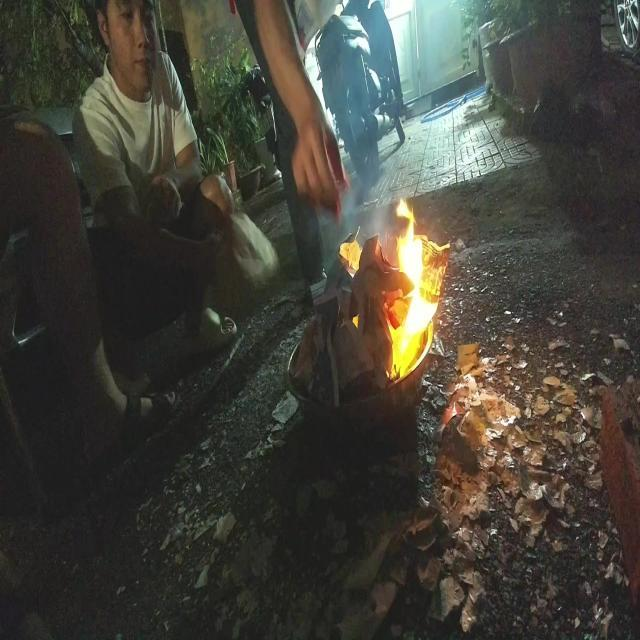Fire: (386, 195, 439, 394)
Smoke: (332, 174, 392, 252)
